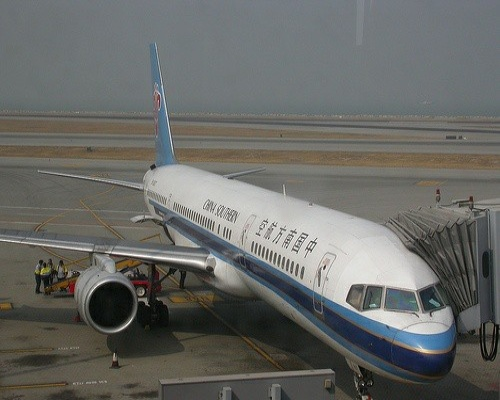plane: (7, 44, 458, 389)
